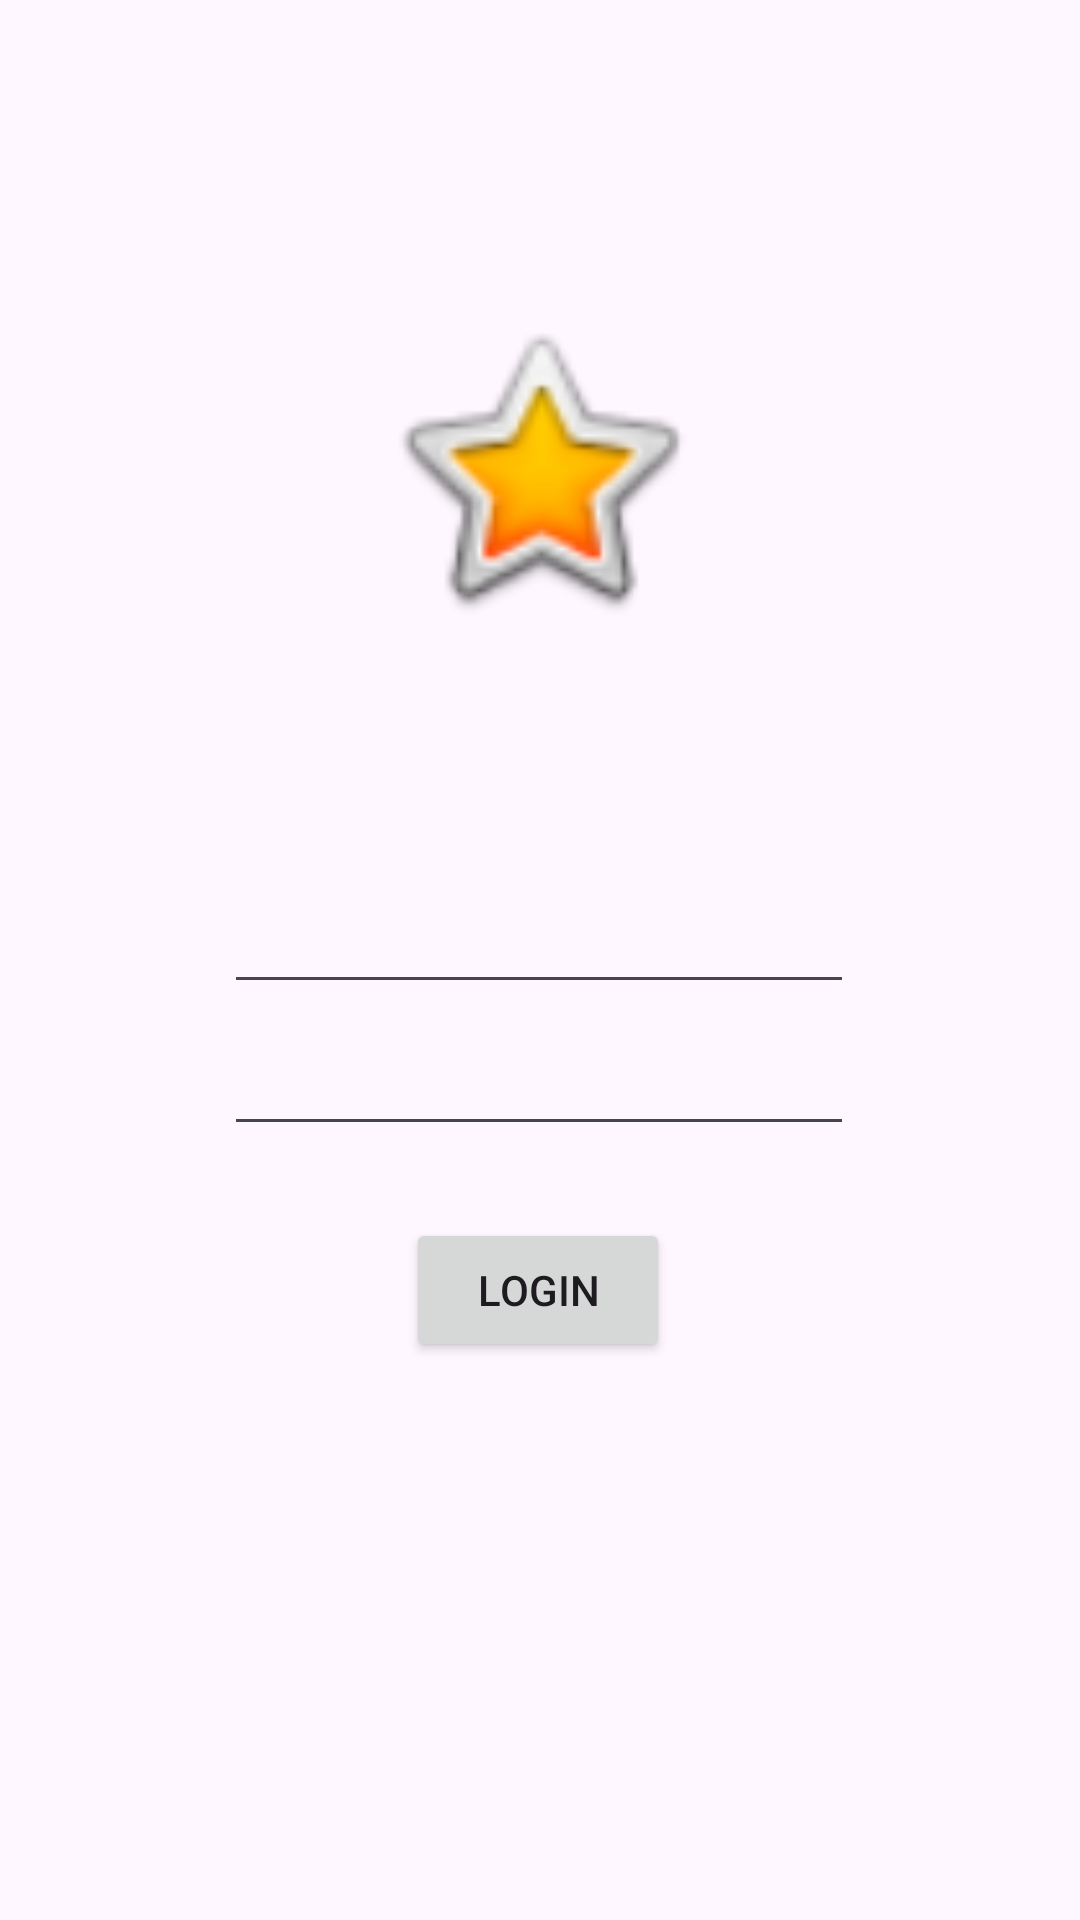

Where icons sit on this 1080px x 1920px app screen, as (x1, y1, x2, y2):
star on: (404, 337, 680, 606)
